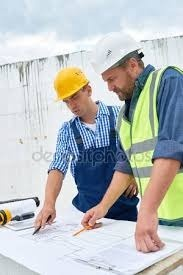helmet: (94, 31, 147, 79), (50, 65, 92, 104)
person with full safety: (89, 22, 183, 215)
person with partial safety: (50, 66, 131, 208)
safety vest: (110, 79, 181, 211)
